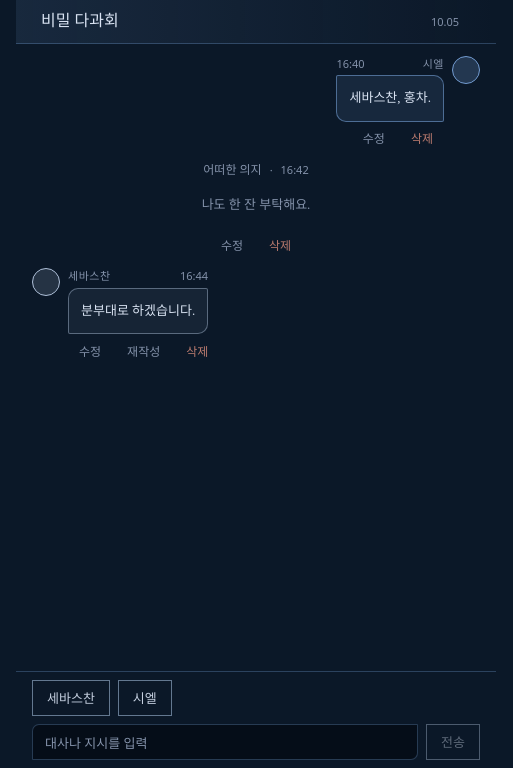
메시지 id 래퍼 roomId (F-CH-72 · R-LOCK-006) › TC-CH-156: (a) 수정 저장 → editMessage(103, { text }, r1)
This screenshot has width=513, height=768.
Expected: the element named "대화 기록" is shown, left=32, top=56, right=480, bottom=366
Click the button with aria-label "어떠한 의지 대사 수정" at (232, 246), box left=210, top=232, right=254, bottom=260
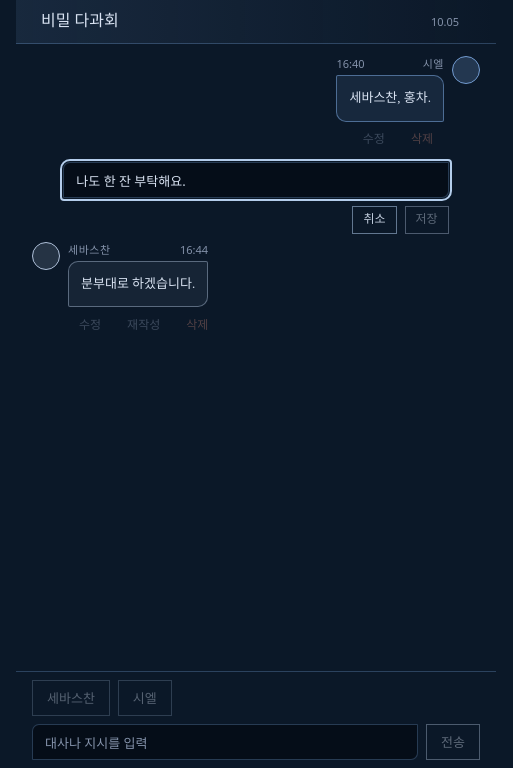
Replace the text in the text box named "수정할 내용" with "고침" at (256, 180), box left=63, top=162, right=449, bottom=198
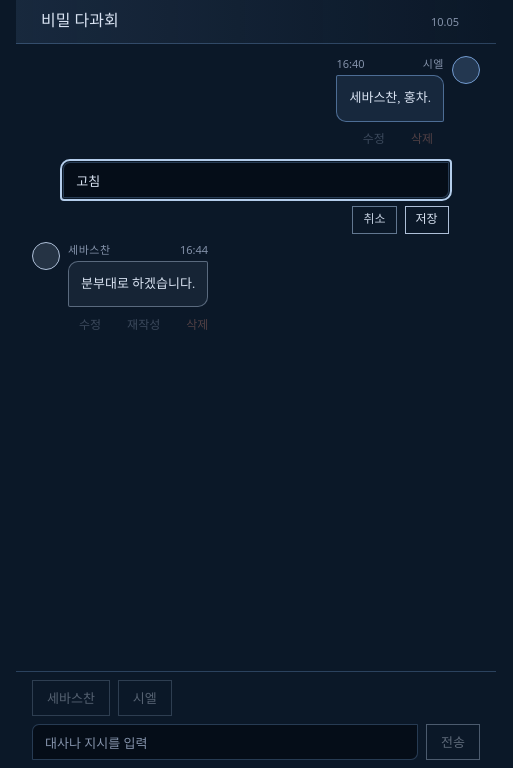
Click the button "저장" at (427, 220), box left=404, top=206, right=449, bottom=234
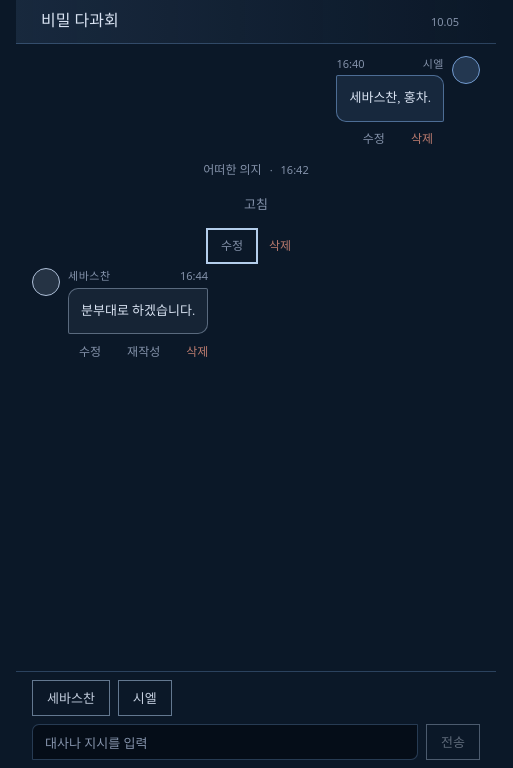
Result: the text "고침" is shown at left=244, top=197, right=268, bottom=212
